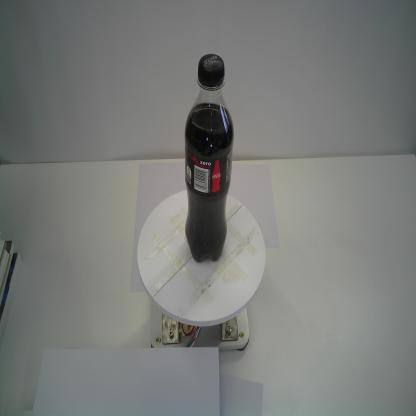Drink: (184, 53, 235, 264)
